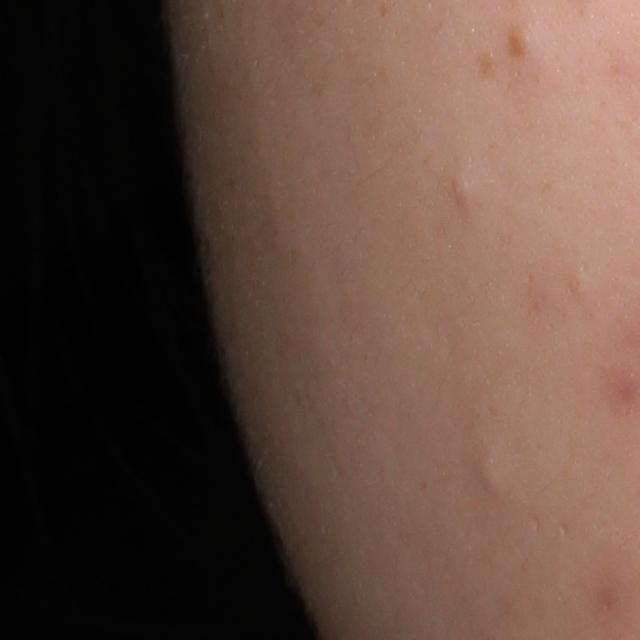comedo: (476, 450, 517, 499), (502, 20, 533, 61), (450, 174, 476, 206), (570, 271, 593, 297)
